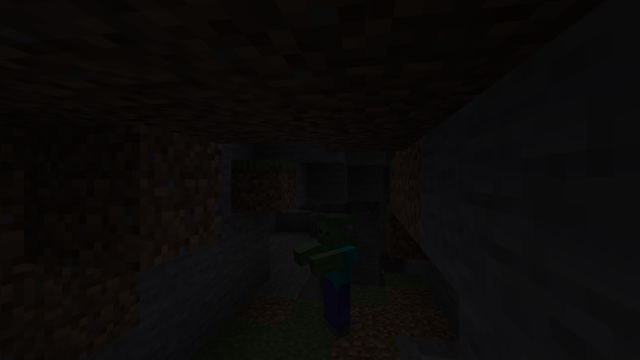zombies: (316, 215, 353, 341)
